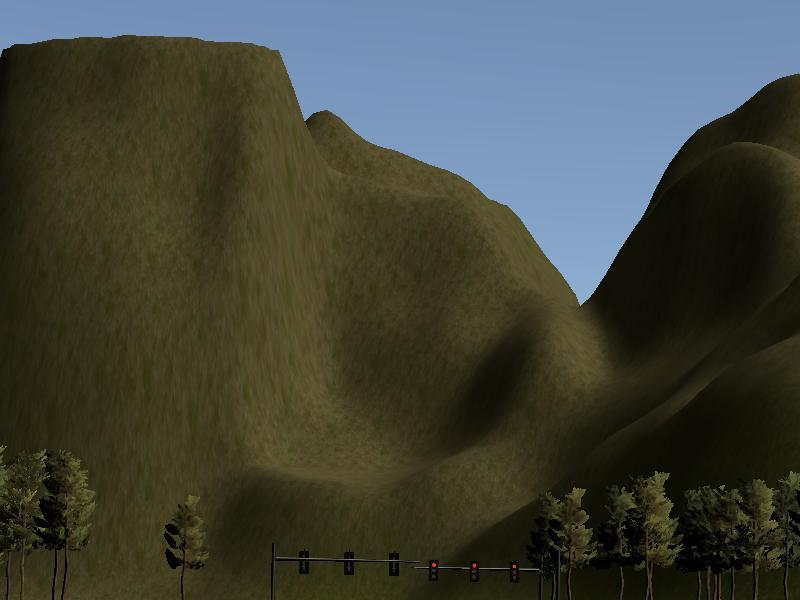Red: (508, 559, 520, 585), (469, 559, 480, 583), (429, 557, 438, 578)
